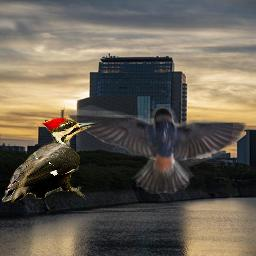Swallow: (62, 104, 249, 194)
Woodpecker: (2, 118, 99, 203)
